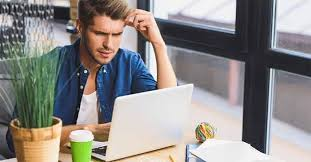middle_eastern_male: (80, 5, 127, 64)
